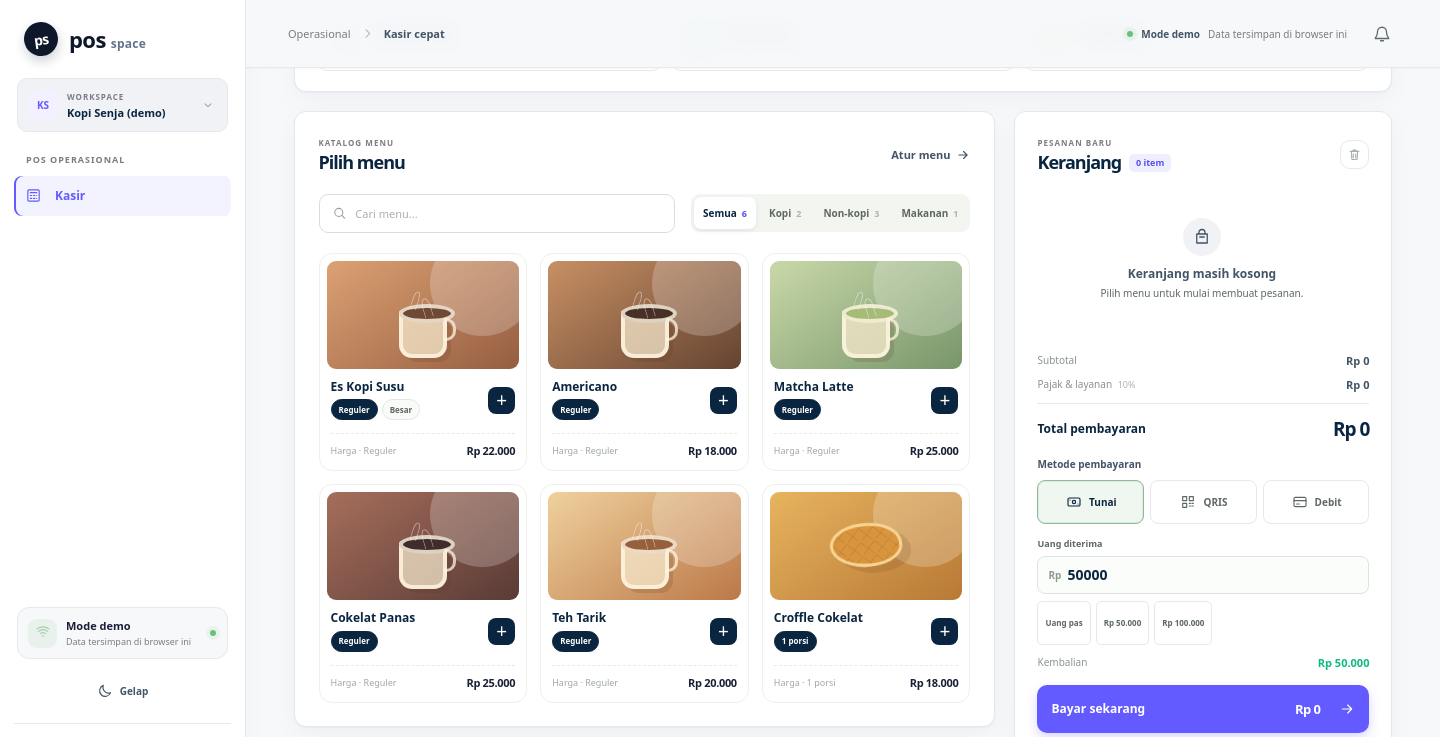
Test: Kasir cepat (alur POS via /demo) › tambah produk ke keranjang dengan subtotal + pajak
(page scrolled)
Click the button "+" in the row of "Es Kopi Susu" at (502, 401), box x1=488 y1=387 x2=515 y2=414
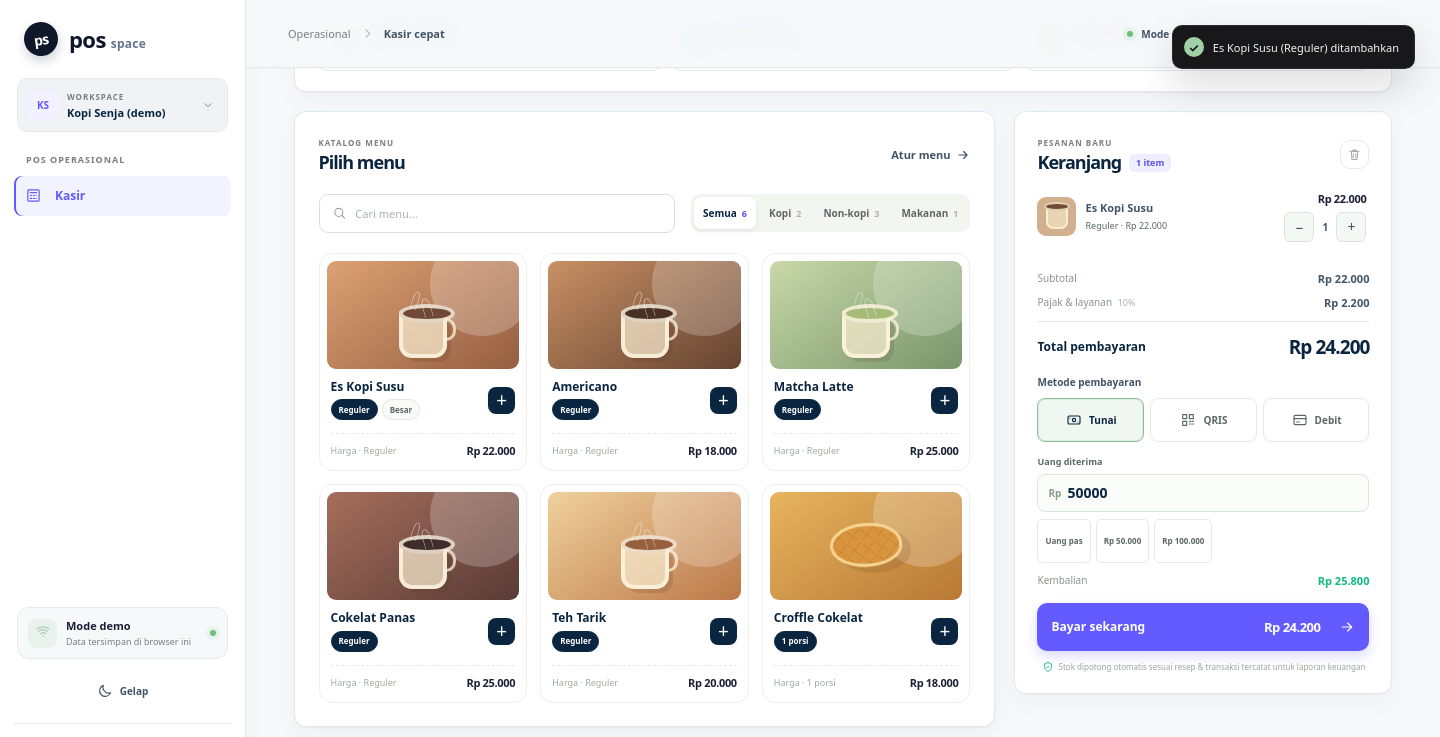
Result: the text "Keranjang" reads "1 item" at x1=1136 y1=156 x2=1164 y2=169
Result: the number of elements with class "cart-item" is 1 at x1=1038 y1=191 x2=1367 y2=242
Result: the text with class "cart-item" reads "Es Kopi Susu" at x1=1085 y1=200 x2=1153 y2=215
